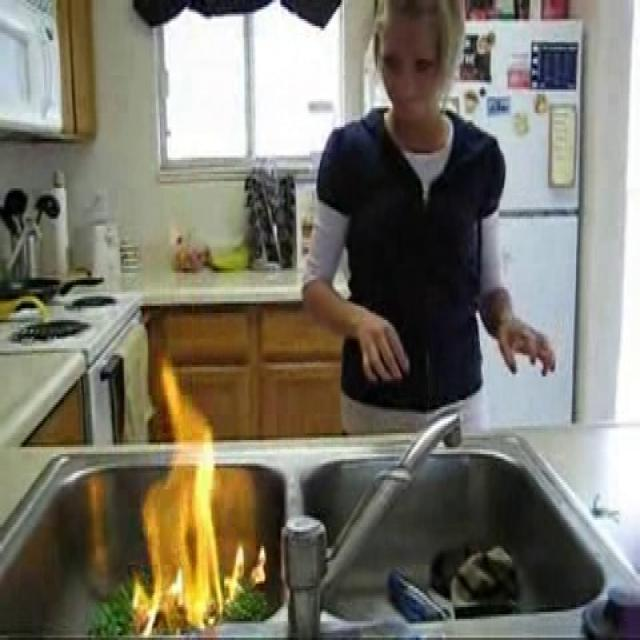fire: (145, 367, 236, 638)
